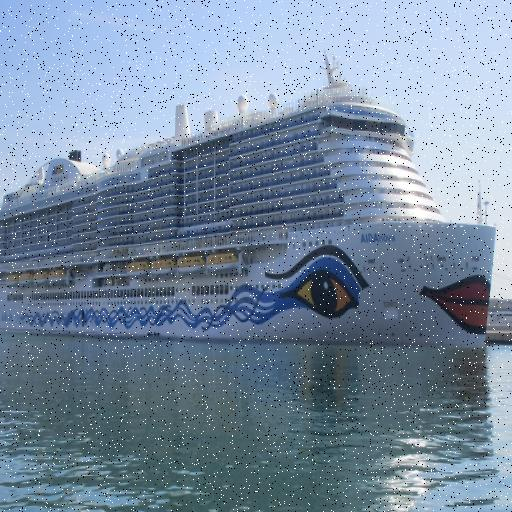cruises: (1, 46, 500, 358)
